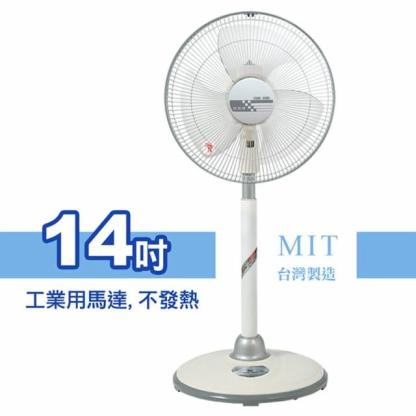fan: (151, 4, 347, 412)
